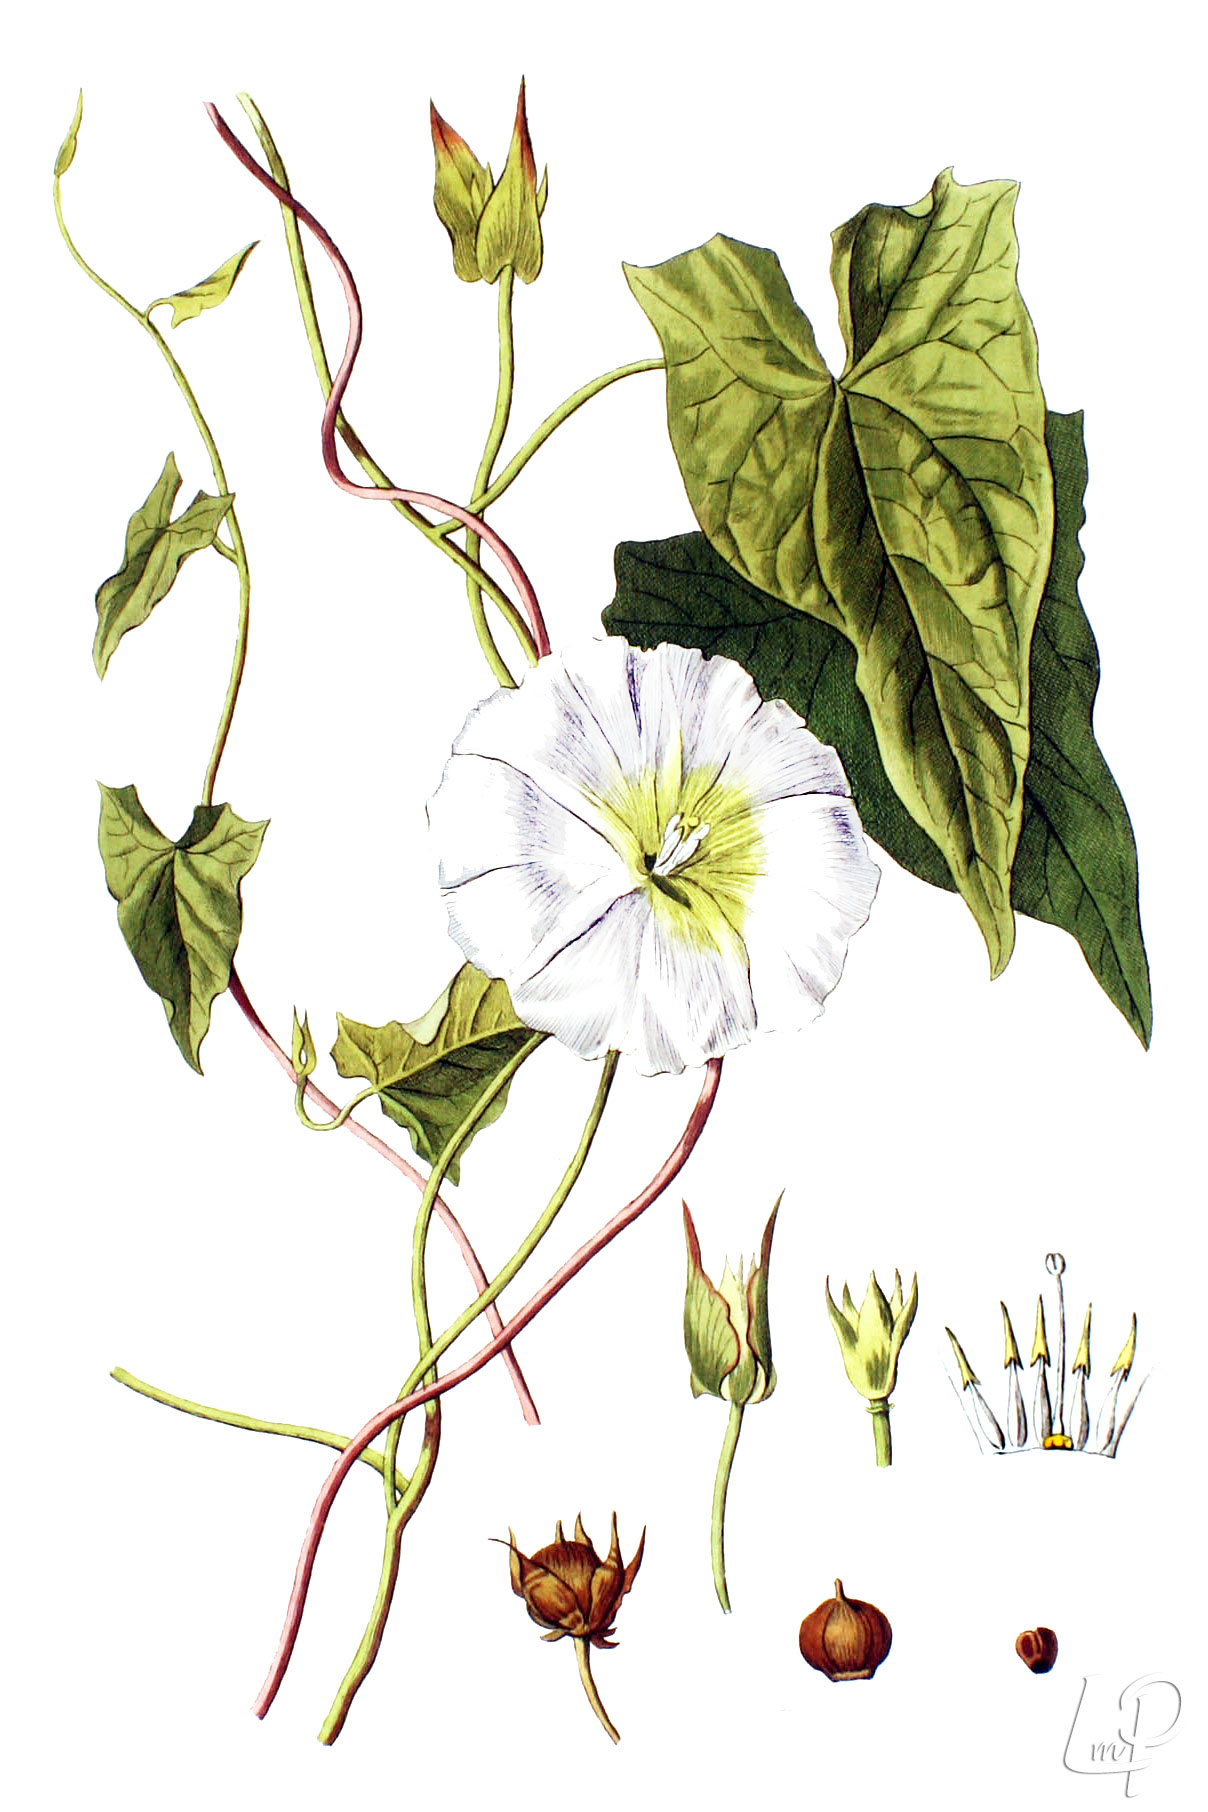haagwinde: (631, 205, 1195, 1068), (446, 628, 898, 1132), (191, 65, 605, 581), (53, 756, 294, 1092), (51, 427, 264, 684)
